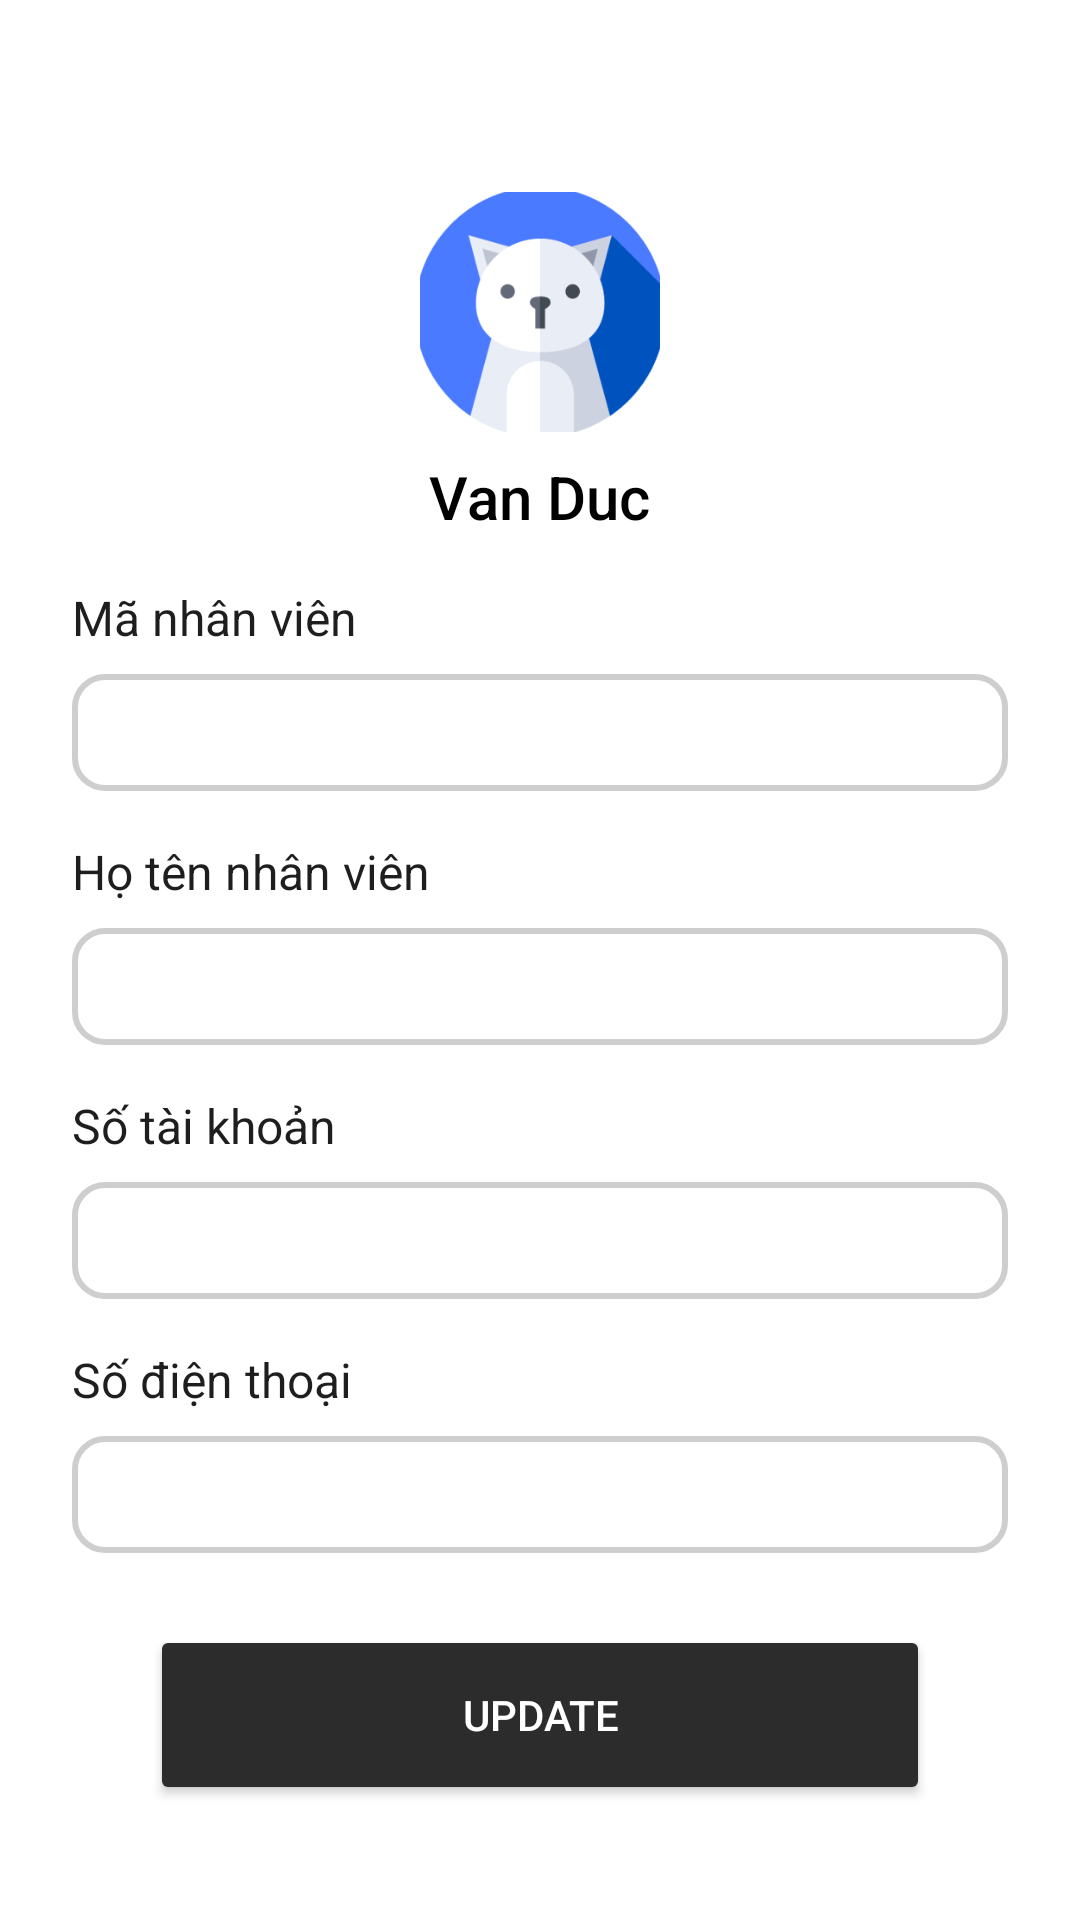

Icons on this 1080 × 1920 Android screen, each with the point to tap as (x,y):
avatauser: (540,312)
